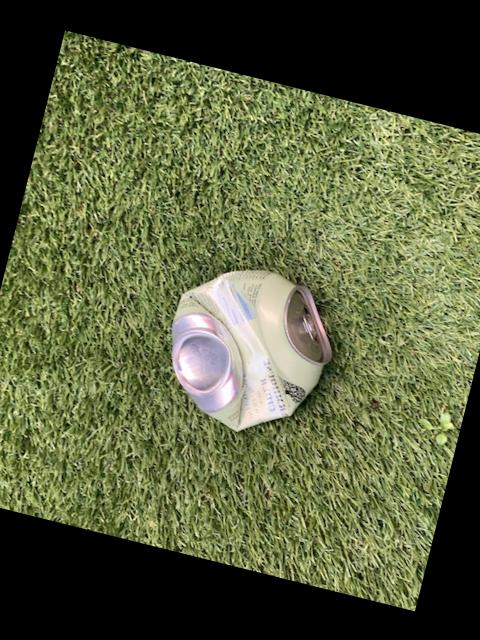metal: (171, 267, 330, 427)
